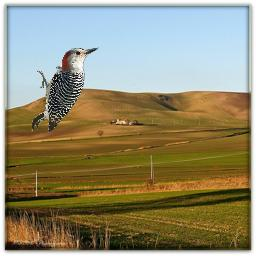Woodpecker: (32, 47, 99, 132)
